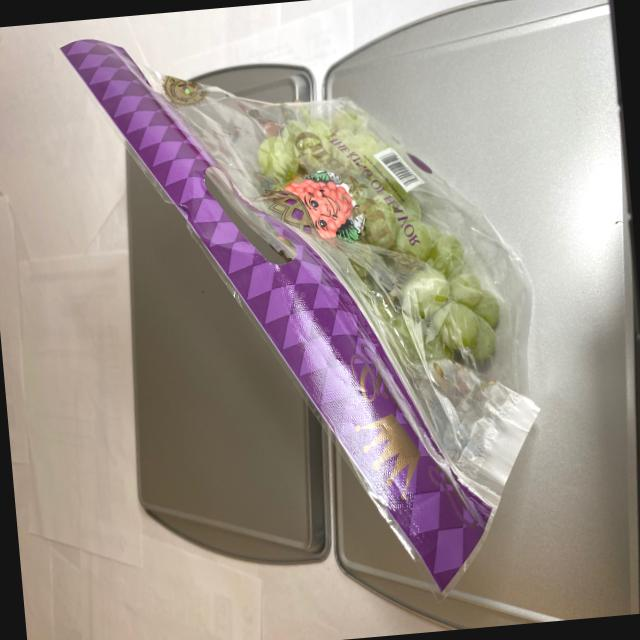grapes: (242, 97, 508, 417)
